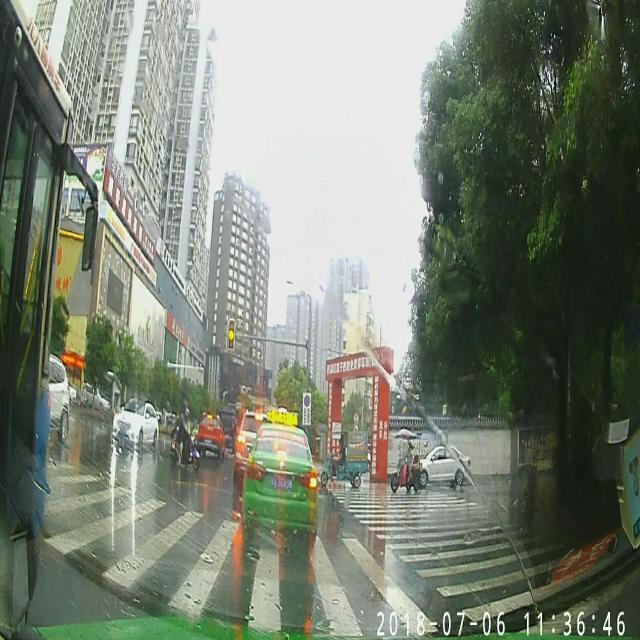car: (242, 406, 320, 542), (112, 396, 156, 449), (420, 444, 472, 486), (48, 349, 70, 444), (197, 406, 225, 462), (219, 408, 237, 454)
